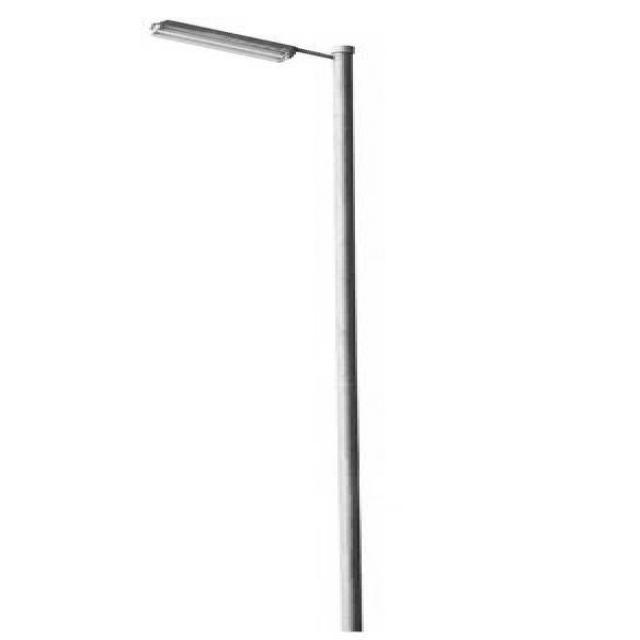Pole: (152, 20, 360, 633)
